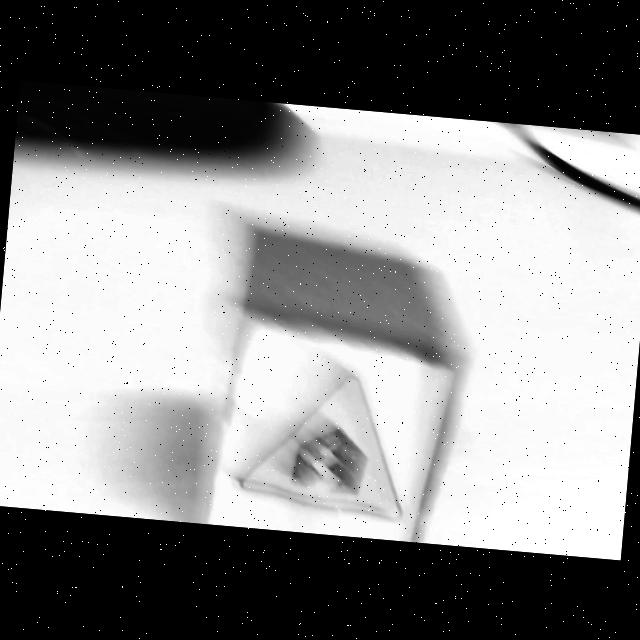Earthquake: (242, 377, 402, 519)
